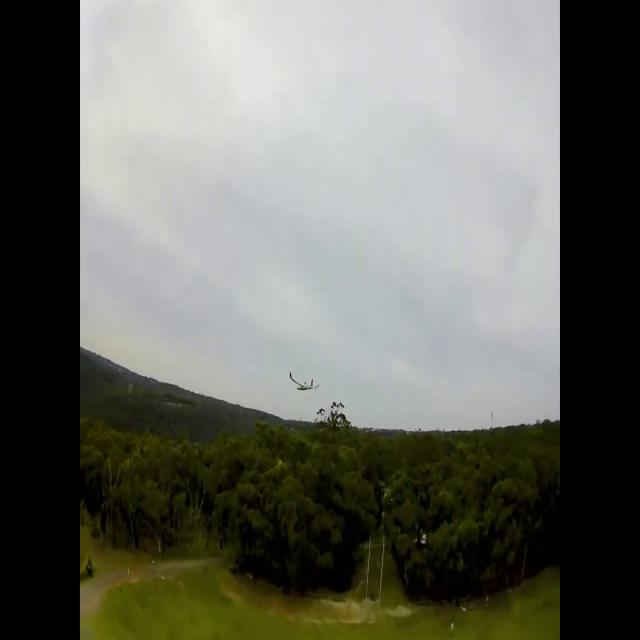iha: (289, 370, 319, 392)
